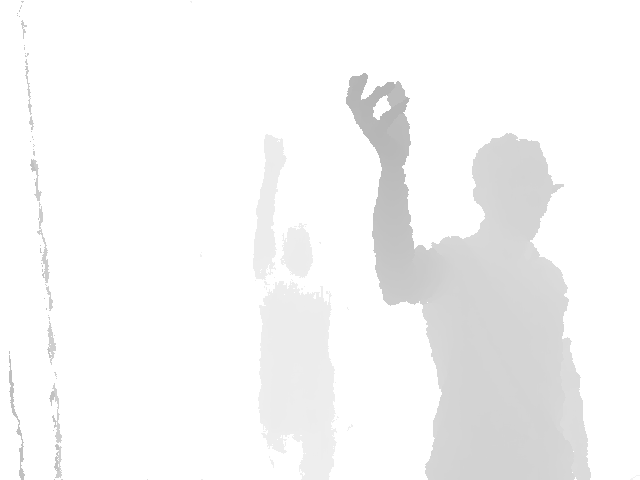hand: (344, 72, 411, 170), (263, 134, 287, 173)
head: (470, 131, 564, 241), (279, 221, 316, 279)
person: (344, 72, 593, 480), (251, 133, 337, 480)
